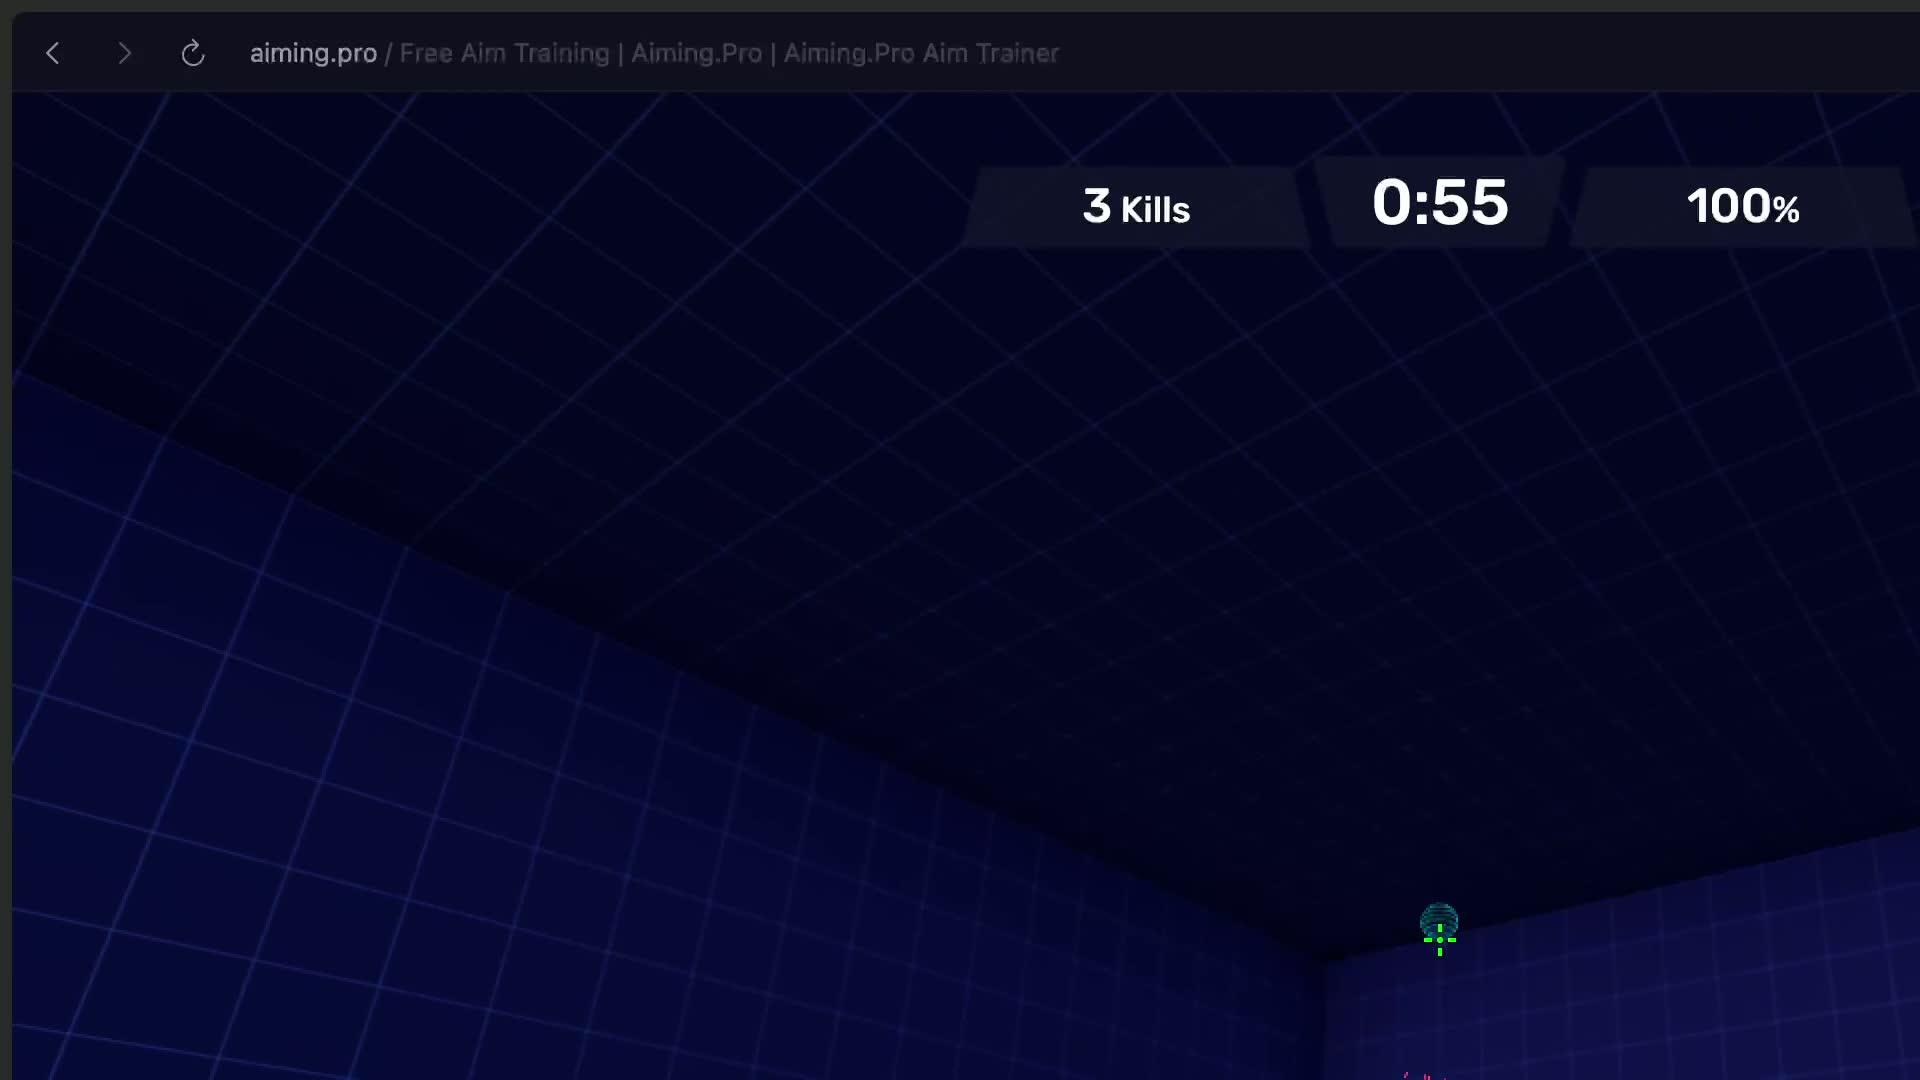target: (1420, 903, 1457, 956)
